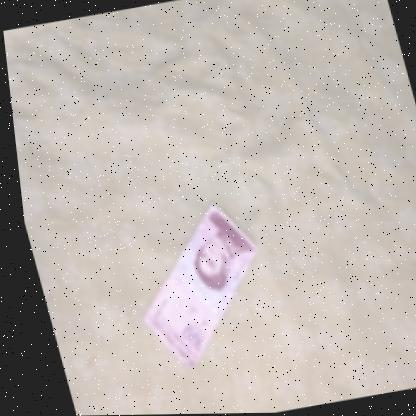vef_front: (105, 197, 280, 378)
